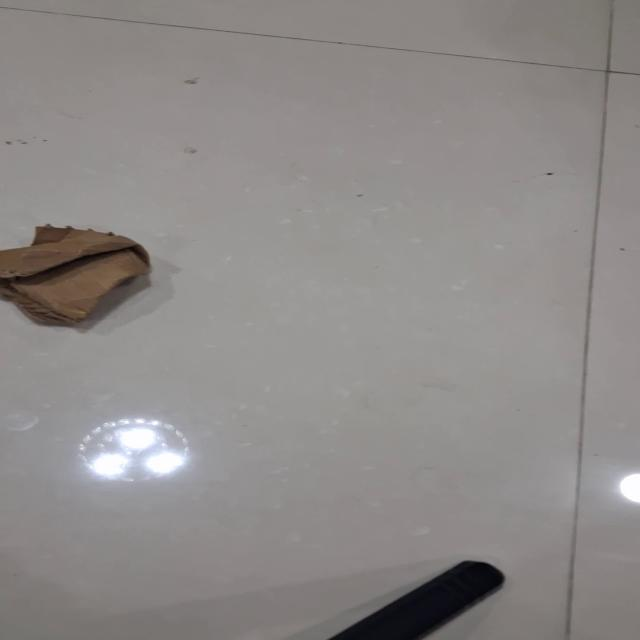paper: (1, 223, 151, 326)
